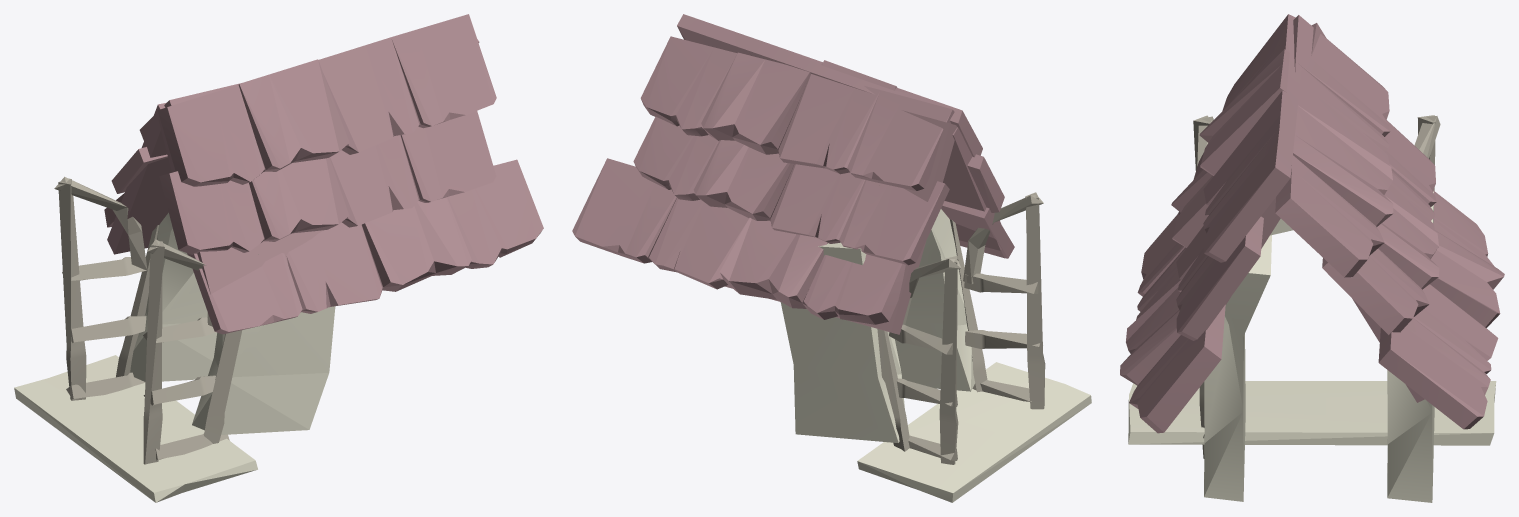
Rendered from WindowsOpen.fbx.
3 views of the same model, side by side, from view 1: azimuth 30°, elevation 25°; view 2: azimuth 150°, elevation 25°; view 3: azimuth 270°, elevation 25° (orthographic). The views are drawn at different scales.
Parts seen in each view (by area): view 1: WindowsOpen; view 2: WindowsOpen; view 3: WindowsOpen.
Boxes of the visible parts, bbox=[...] form: WindowsOpen: bbox=[14, 14, 543, 502]; WindowsOpen: bbox=[572, 14, 1091, 502]; WindowsOpen: bbox=[1120, 14, 1504, 502].
Bounding box in the file's own units: 356 × 307 × 228.
